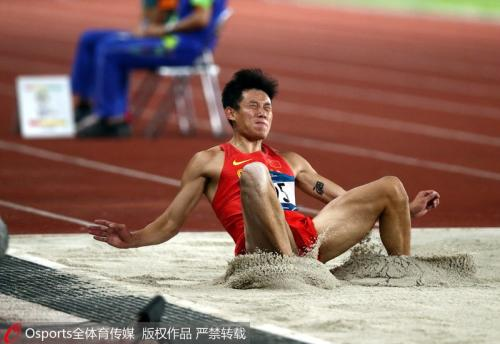fall: (89, 59, 454, 283)
